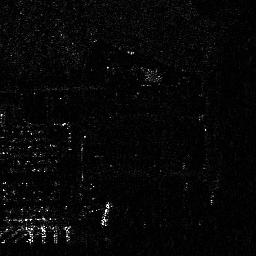ship: (100, 201, 112, 225)
